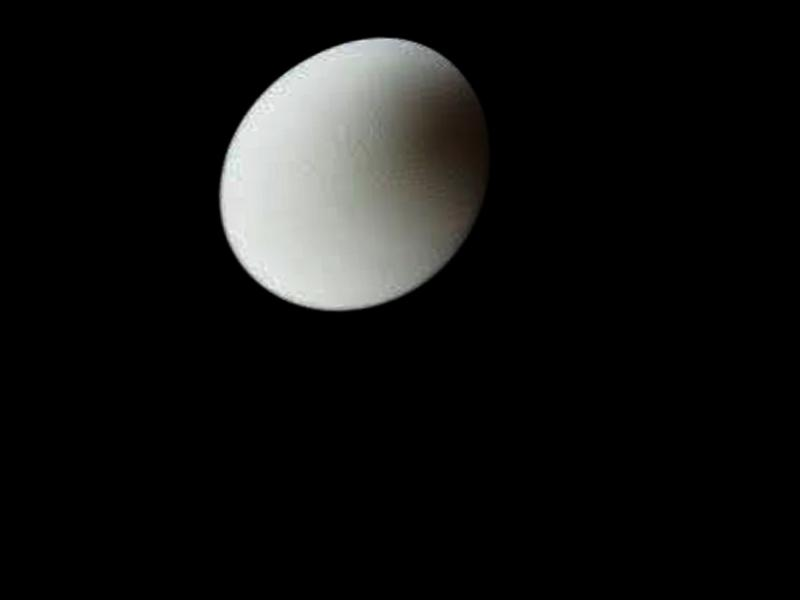Eggs: (208, 29, 497, 318)
